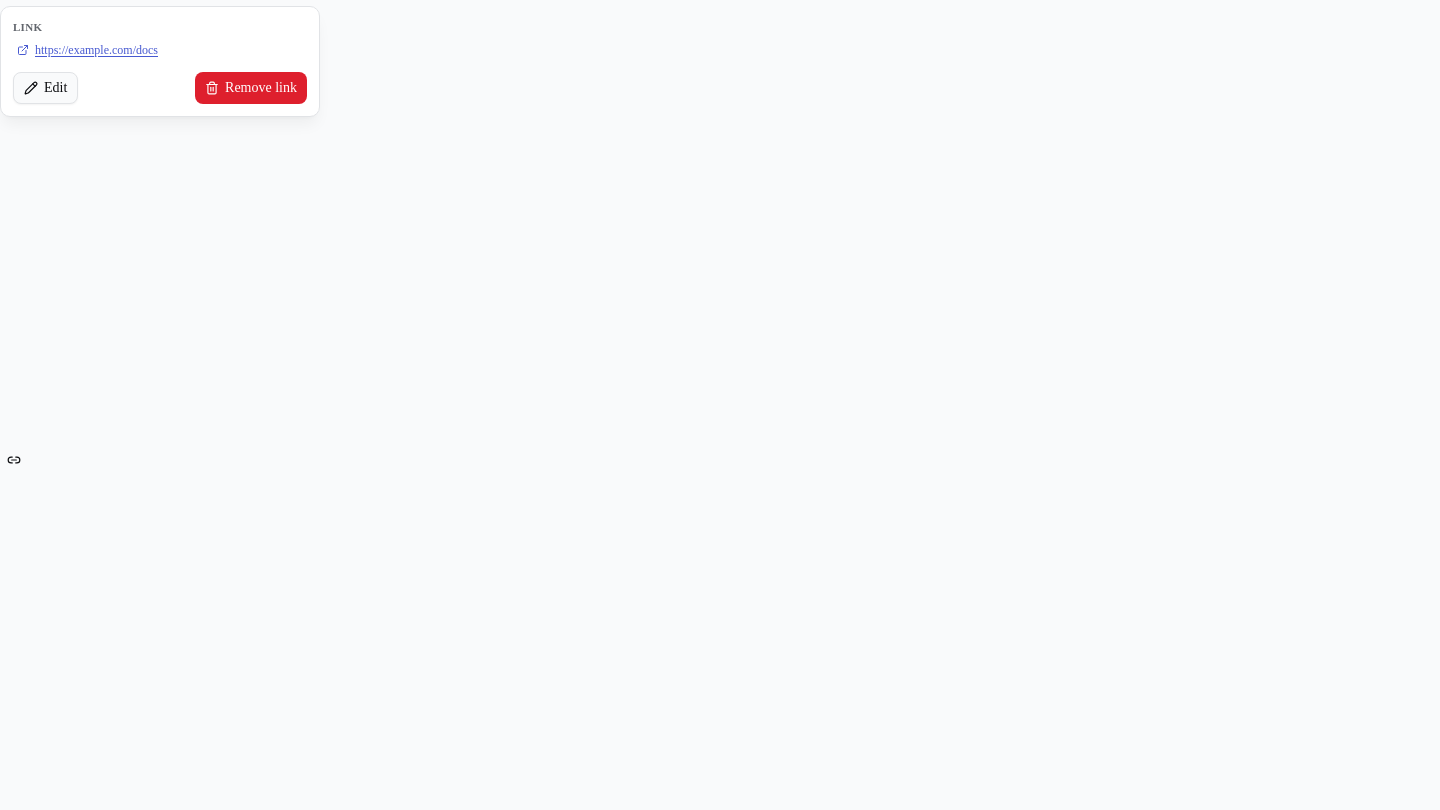
Scenario: LinkPopover — view and edit › switches to a field on Edit, prefilled with the current address
Check: the dialog is shown, box [0, 6, 320, 116]
Click the button "Edit". click: (46, 88)
box: [13, 72, 78, 104]
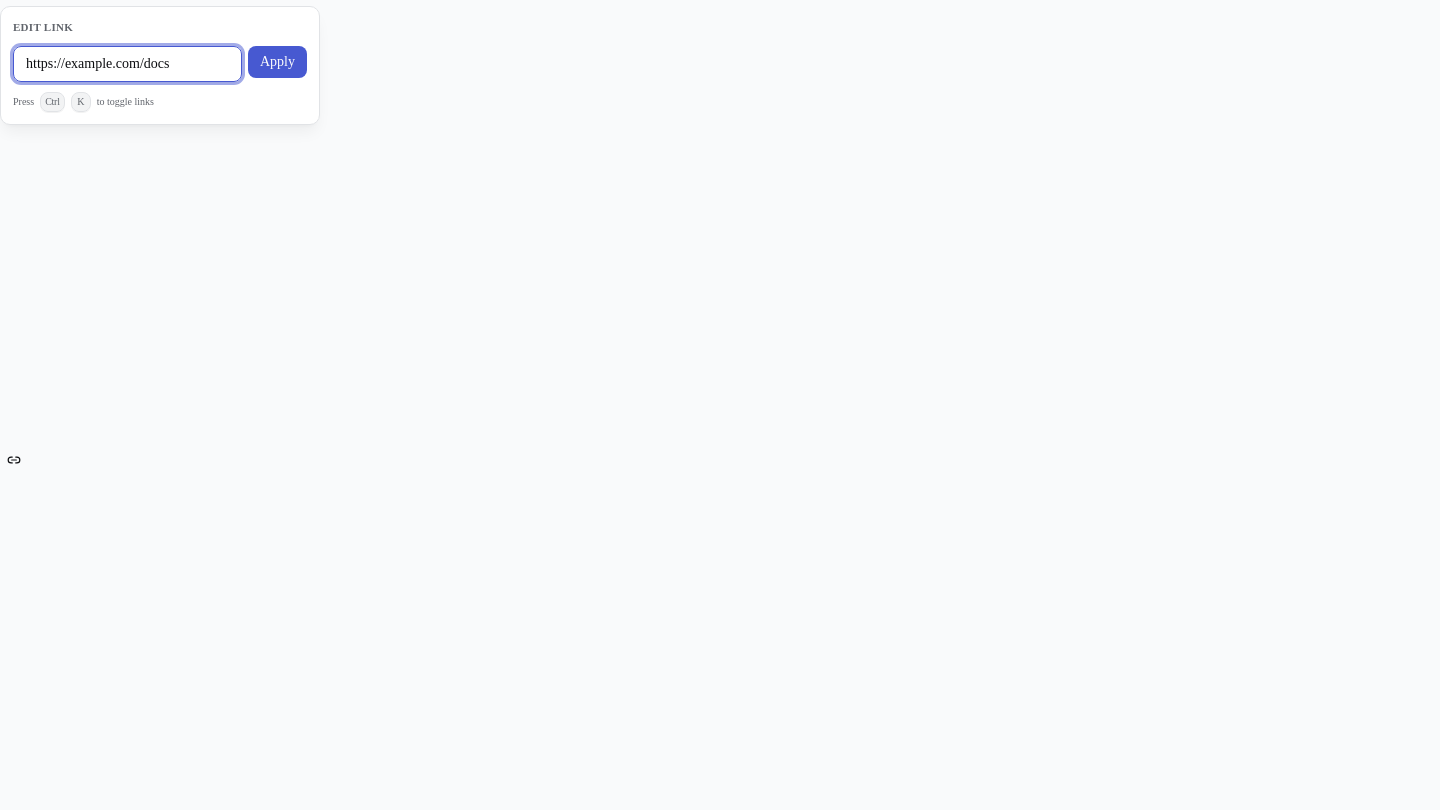
Check: the field with placeholder "https://example.com" holds "https://example.com/docs", box [13, 46, 242, 82]
